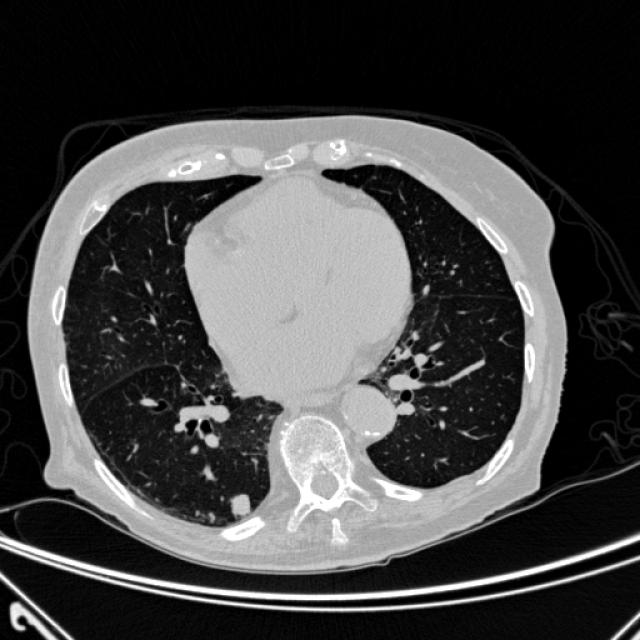nodule: (212, 476, 268, 532)
